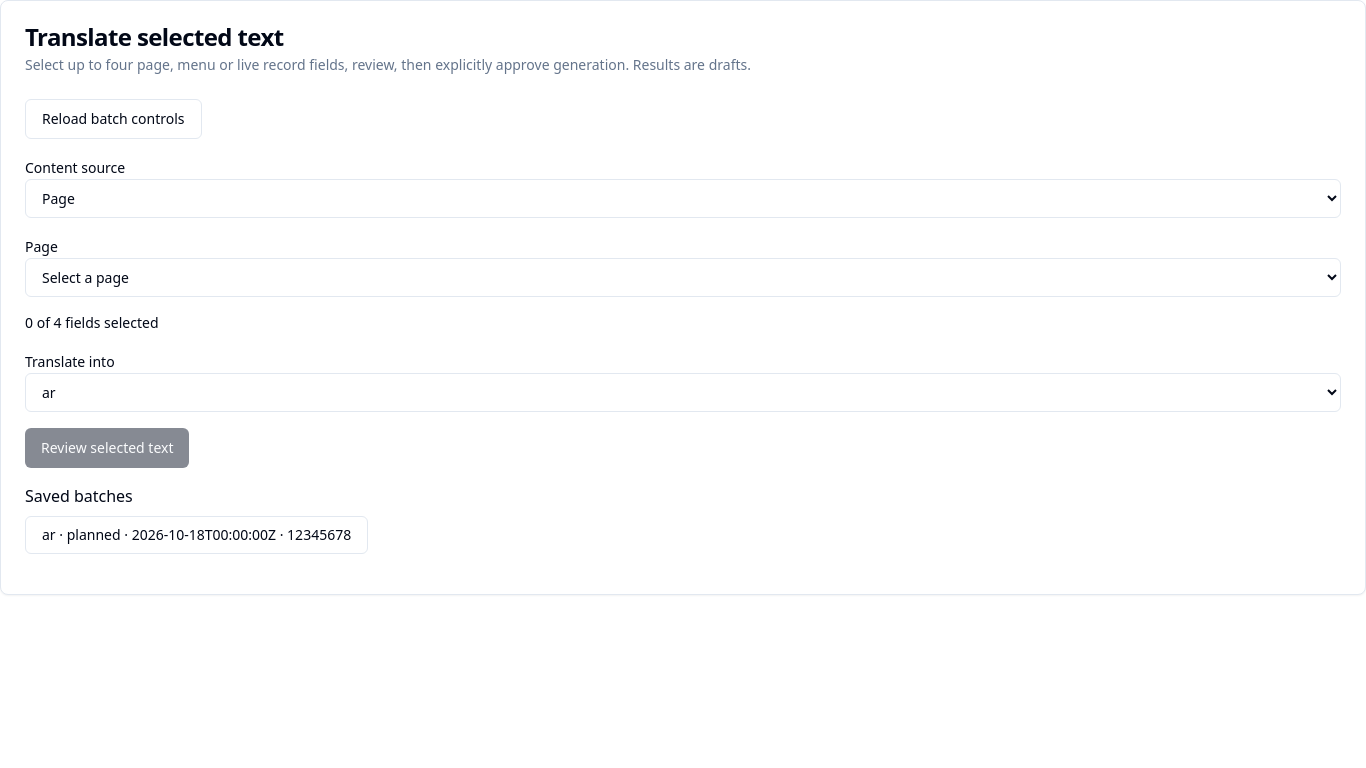
it: Translation batch review › recovers a saved review without generation or persisting bodies in browser storage
Click the button "ar · planned · 2026-10-18T00:00:00Z · 12345678" at (197, 535), box [25,516,368,554]
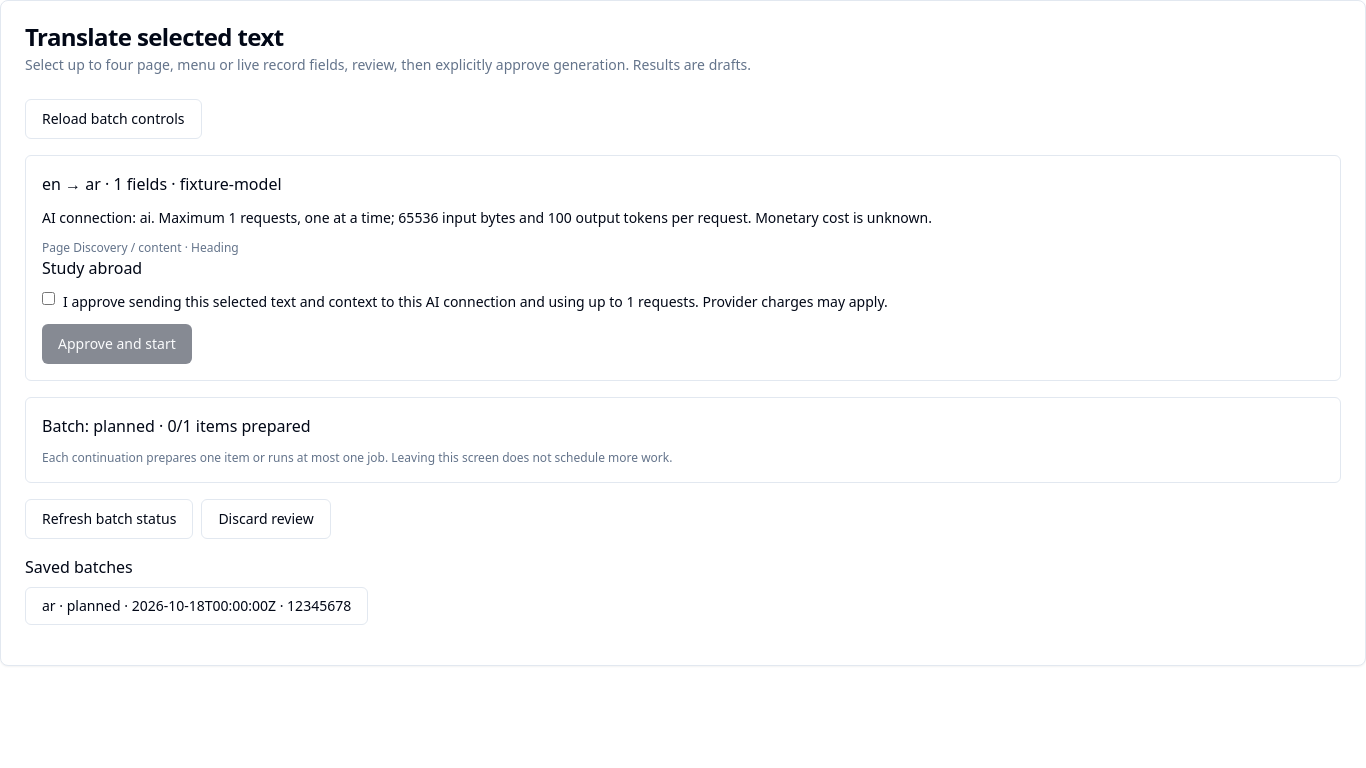
Expected: the element named "Translation review" is shown, [25,155,1341,381]
Expected: the button "Approve and start" is disabled, [42,324,192,364]
